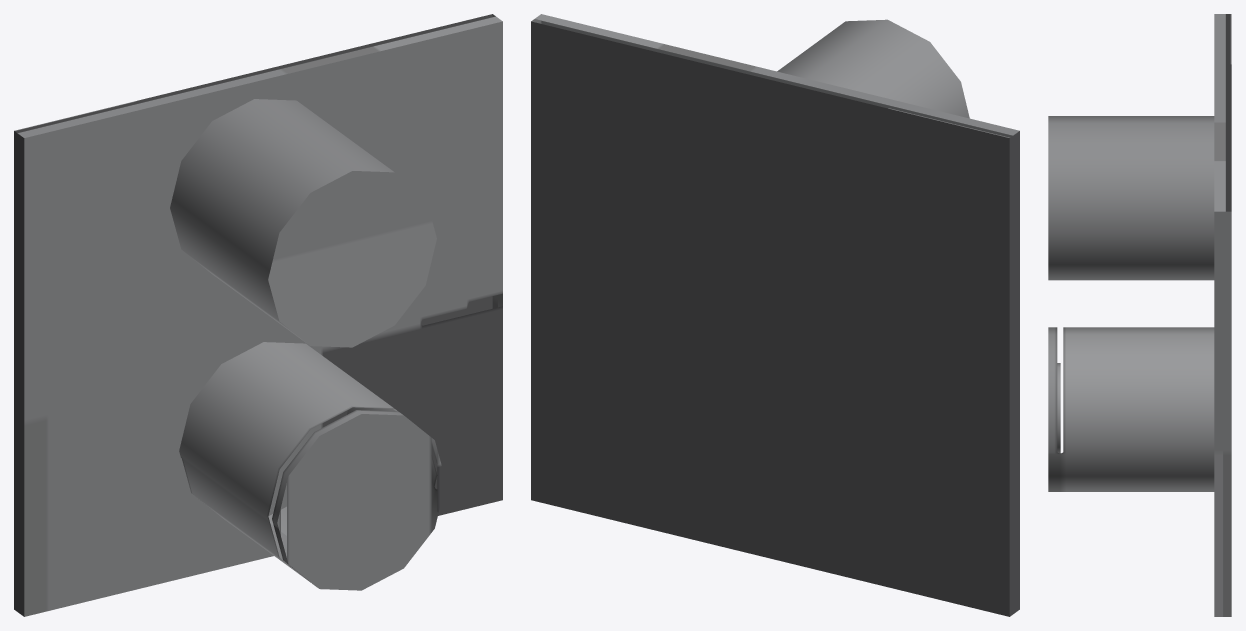
3 views of the same model, side by side, from view 1: azimuth 30°, elevation 25°; view 2: azimuth 150°, elevation 25°; view 3: azimuth 270°, elevation 25° (orthographic). The views are drawn at different scales.
Bounding box in the file's own units: 0.6256 × 0.598 × 0.2452.
